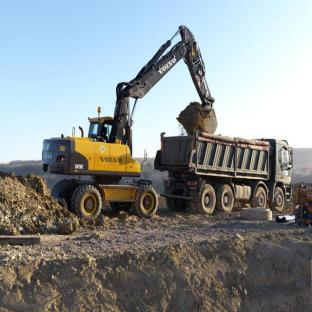ExcavationMachinery: (28, 53, 217, 180)
Vehicle: (156, 130, 309, 212)
